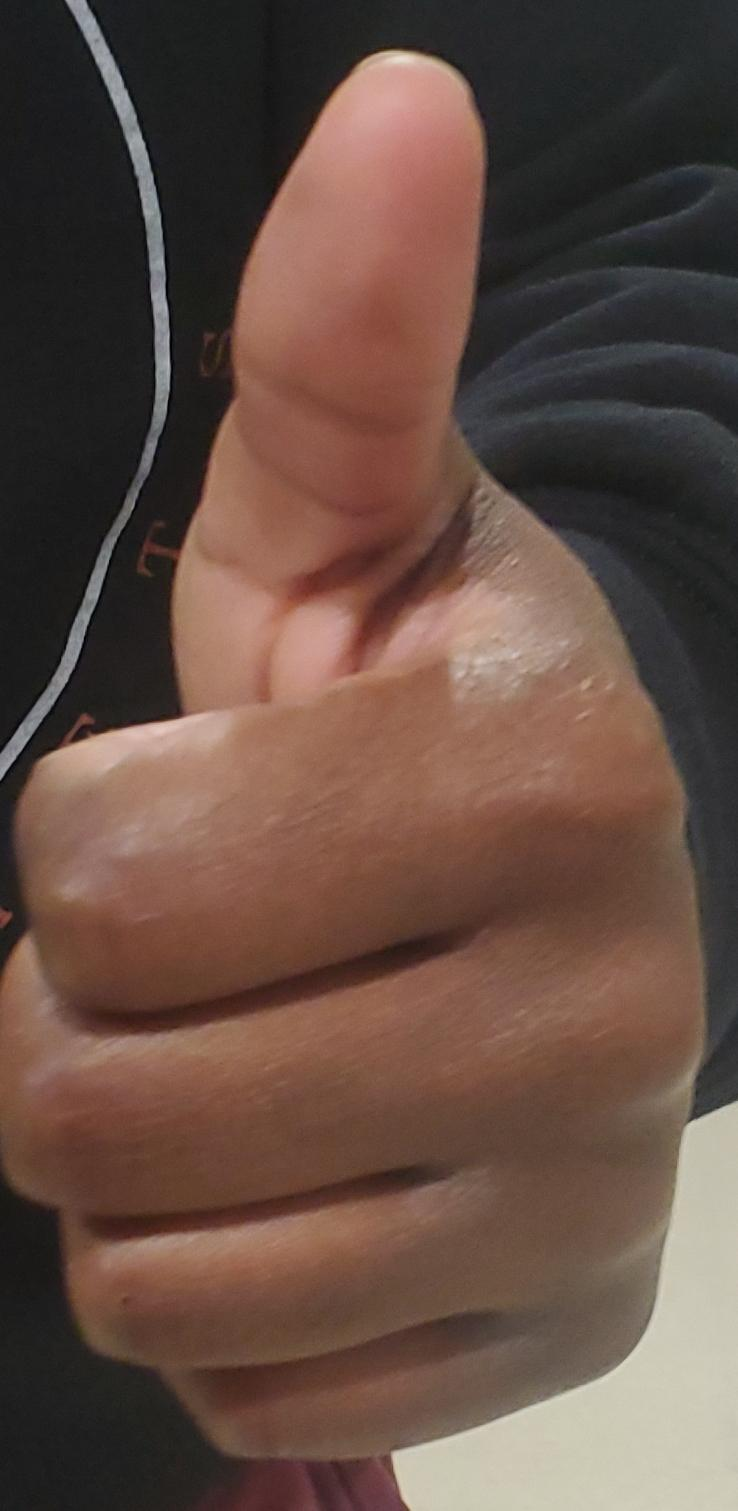up: (0, 1, 738, 1511)
